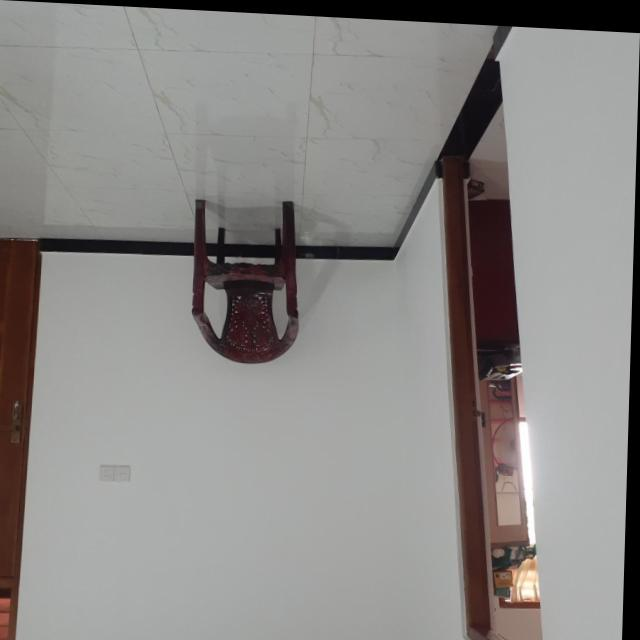Chair: (193, 191, 306, 364)
